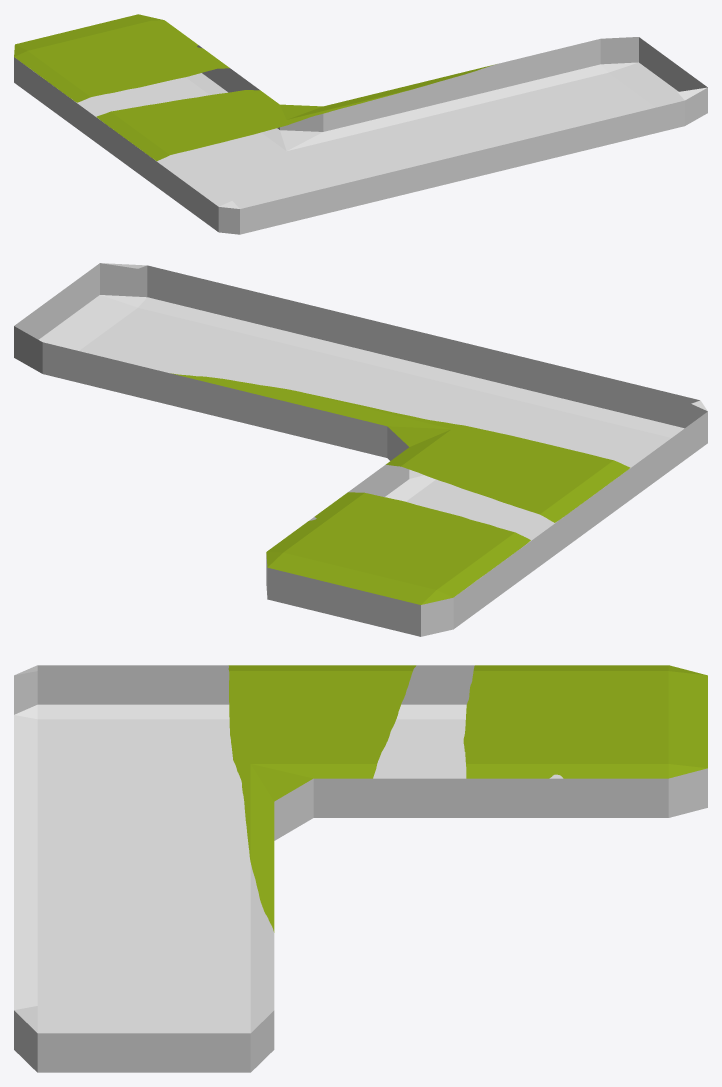
The model's file is littleTerrain.fbx.
3 views of the same model, one above another, from view 1: azimuth 30°, elevation 25°; view 2: azimuth 150°, elevation 25°; view 3: azimuth 270°, elevation 25° (orthographic). The views are drawn at different scales.
Parts seen in each view (by area): view 1: Cube.021; view 2: Cube.021; view 3: Cube.021.
Boxes of the visible parts, <box> form: Cube.021: <box>14,14,707,234</box>; Cube.021: <box>14,263,707,636</box>; Cube.021: <box>14,665,707,1072</box>.
Size of the model in its own units: 6.49 by 0.3965 by 5.17.
